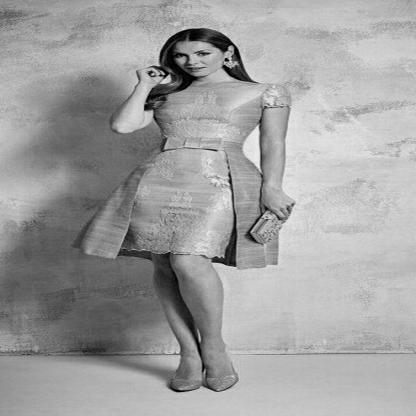dress: (67, 83, 295, 270)
